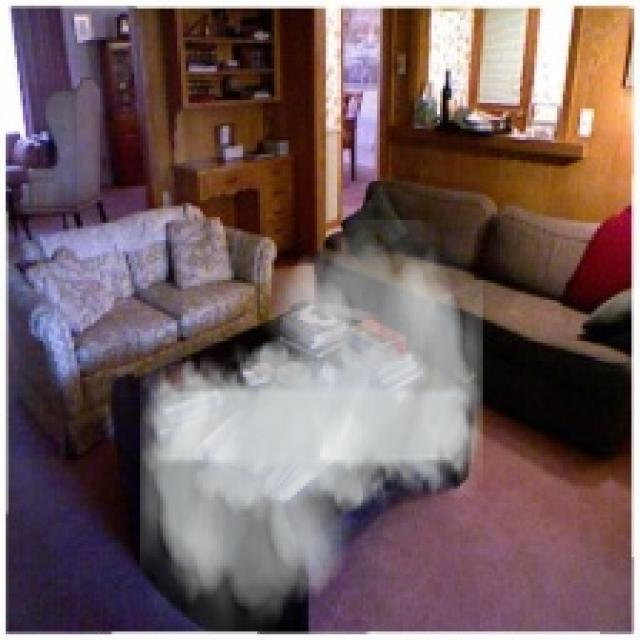Smoke: (140, 219, 483, 632)
